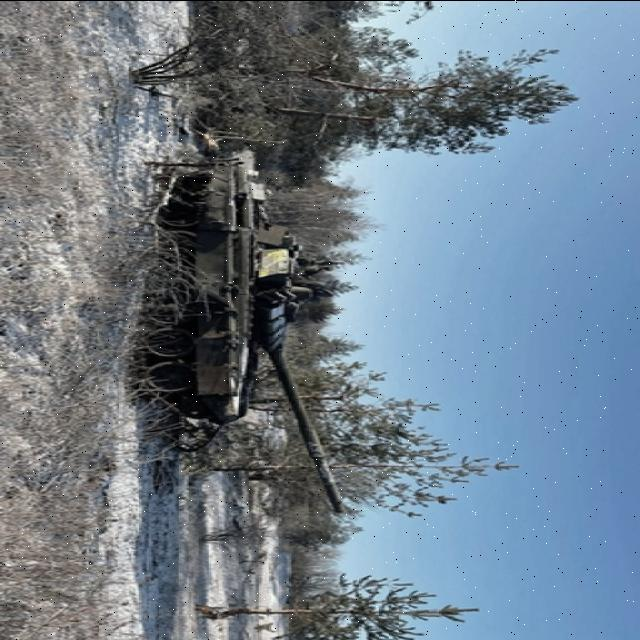TANK: (140, 149, 369, 519)
